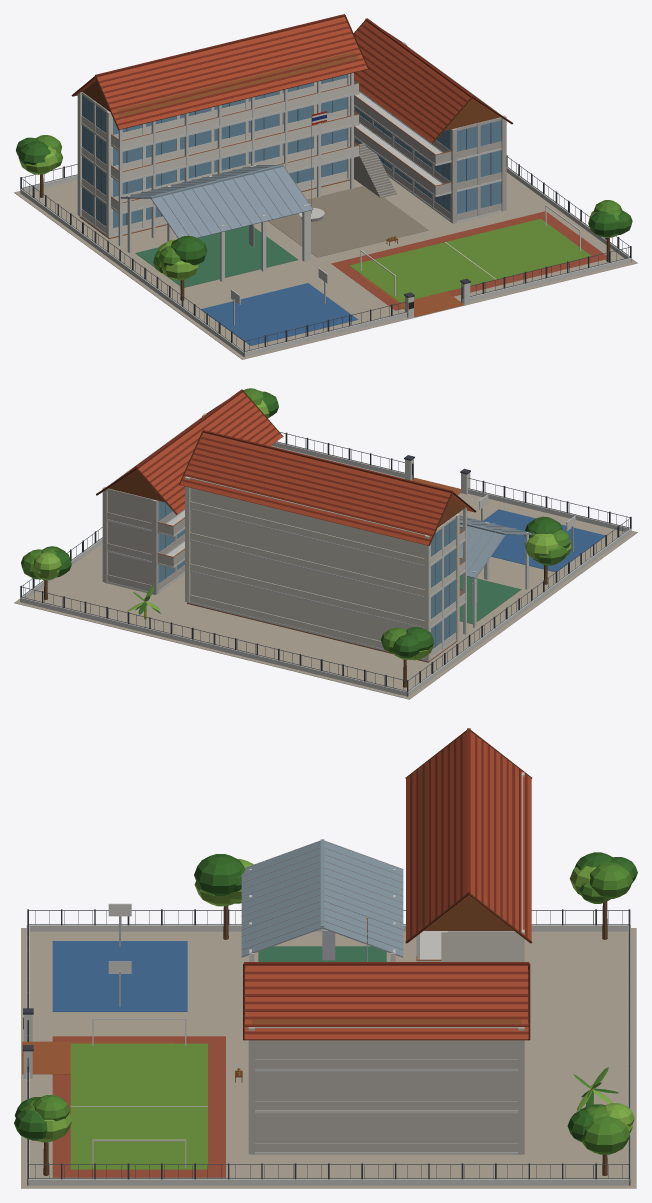
File: school.glb
3 renders of one model, top to bottom at view 1: azimuth 30°, elevation 25°; view 2: azimuth 150°, elevation 25°; view 3: azimuth 270°, elevation 25°, orthographic. The views are drawn at different scales.
Parts seen in each view (by area): view 1: body; view 2: body; view 3: body.
Part boxes in pixels (x1,y1,x2,y2): body: [14, 14, 637, 359]; body: [14, 388, 637, 699]; body: [14, 728, 637, 1188].
Bounding box in the file's own units: 49.02 × 18.34 × 48.57.
